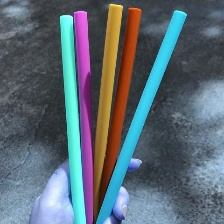drinking_straw: (92, 4, 190, 223), (54, 9, 90, 224)
